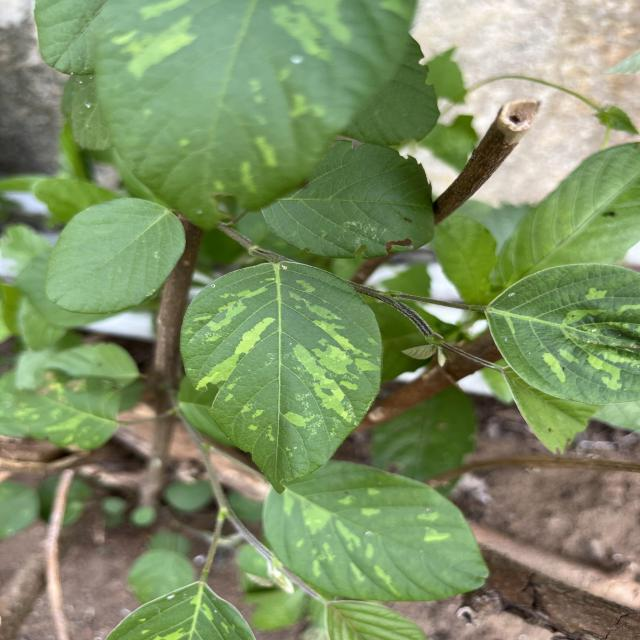Desmodium gangeticum: (174, 258, 386, 498)
